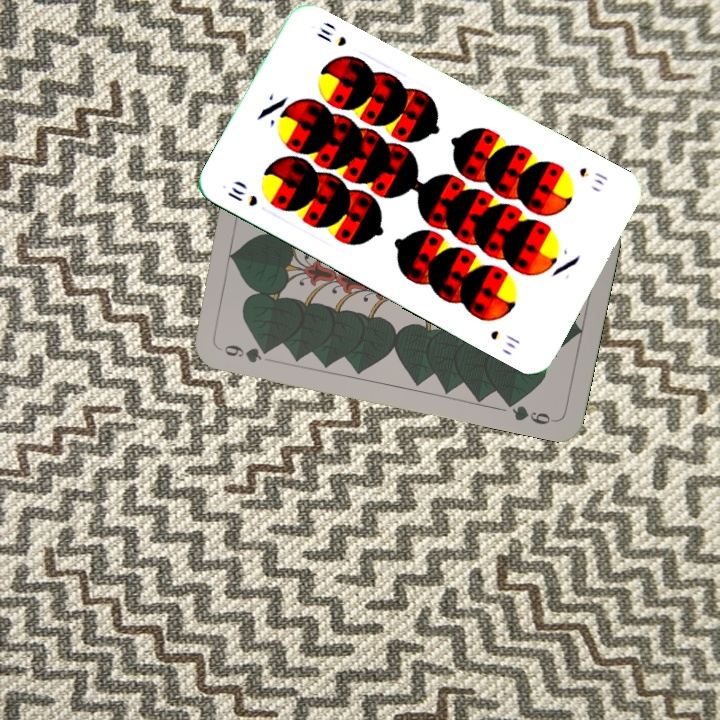G9: (220, 340, 274, 366)
S10: (223, 182, 261, 209), (575, 163, 611, 188)
